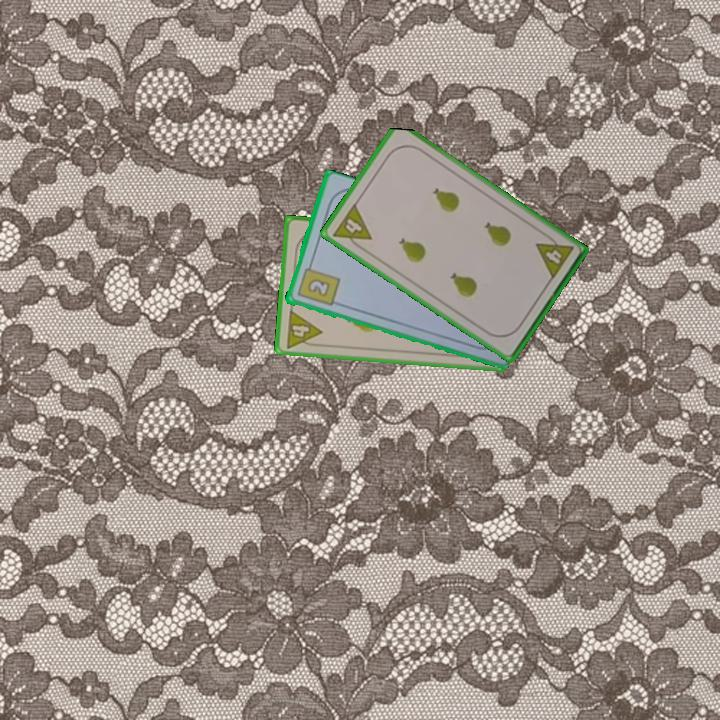2b: (293, 259, 342, 309)
4p: (329, 200, 375, 254), (532, 230, 576, 282), (282, 306, 325, 351)
